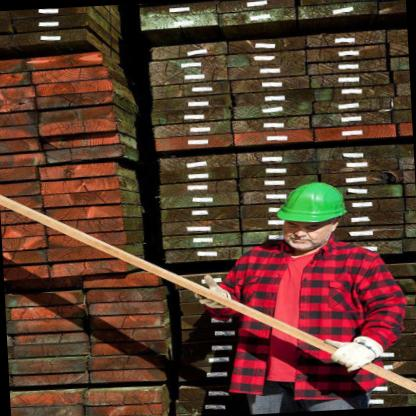helmet: (268, 173, 353, 258)
